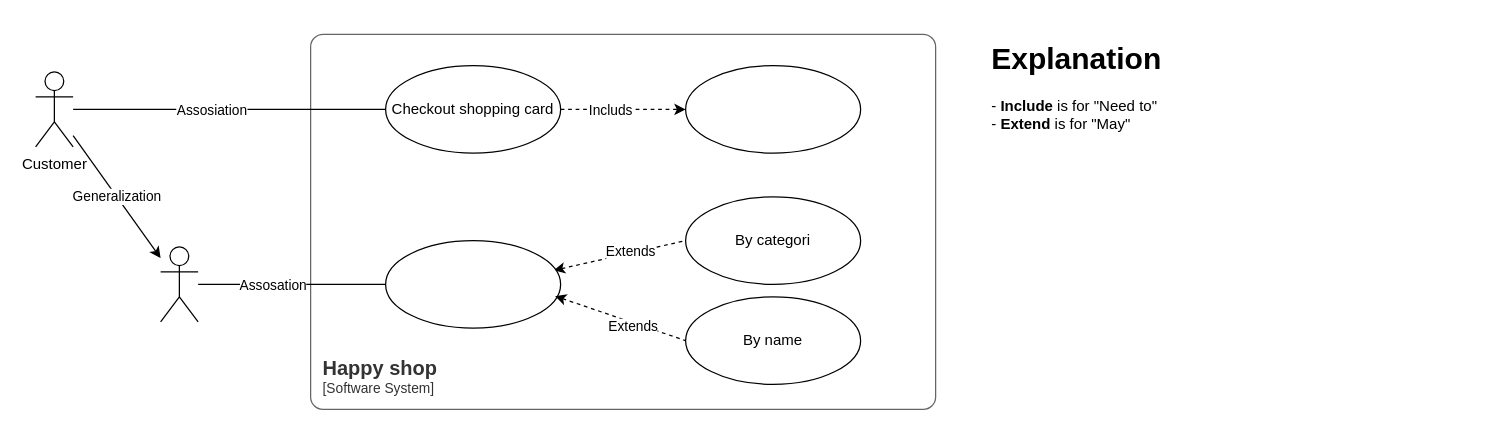
This 1506x431 diagram has some shape labels left out. Each missing label, with the centre of its shape:
"Guest" goes at [178,284].
"Make payment" goes at [772,108].
"Search products" goes at [472,283].
